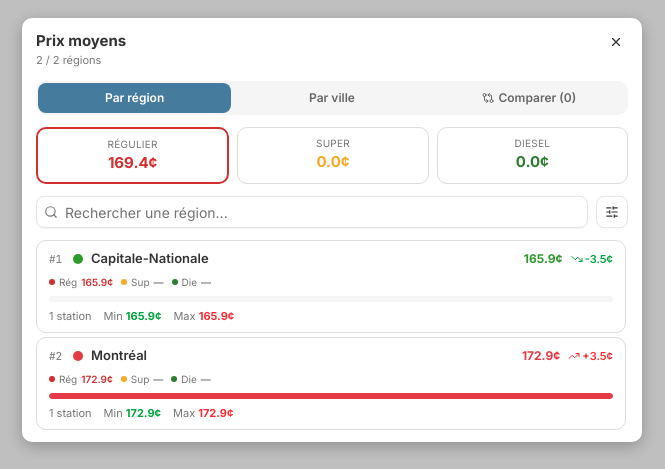
Test case: PricePanel › affiche le message vide en vue comparer sans sélection
The width and height of the screenshot is (665, 469).
Click the button "Comparer (0)" at (529, 98), box x1=433 y1=83 x2=626 y2=113
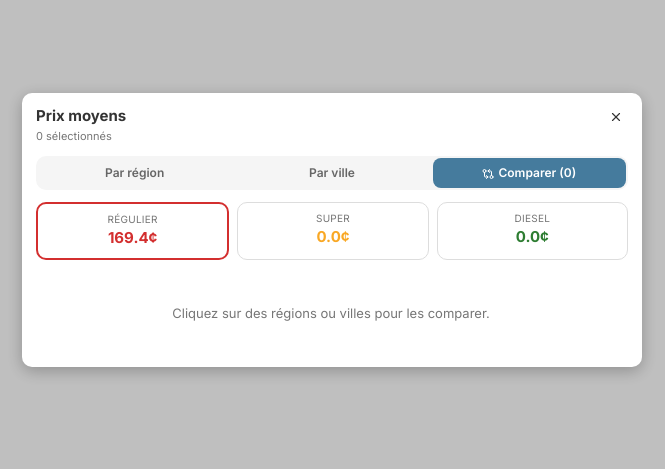
Check: the text "Cliquez sur des régions ou villes pour les comparer." is shown, box x1=172 y1=304 x2=490 y2=320
